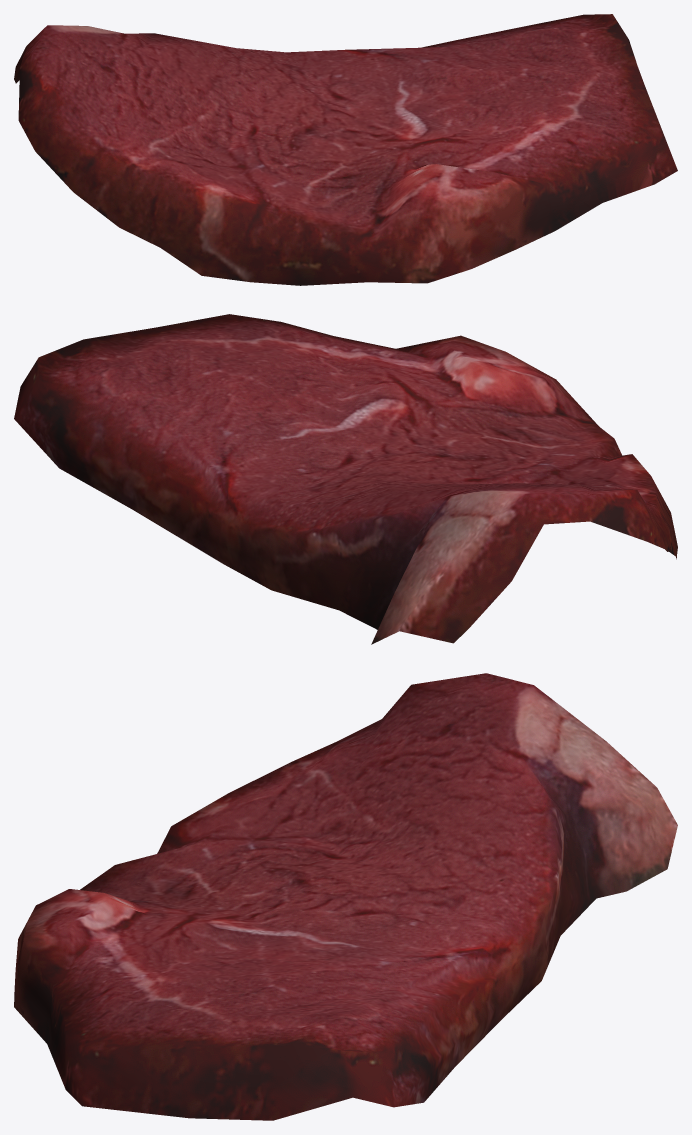
File: Beef_low.fbx
3 views of the same model, one above another, from view 1: azimuth 30°, elevation 25°; view 2: azimuth 150°, elevation 25°; view 3: azimuth 270°, elevation 25° (orthographic). The views are drawn at different scales.
Visible parts, largest first — view 1: Skin_ZSphere5; view 2: Skin_ZSphere5; view 3: Skin_ZSphere5.
Part boxes in pixels (x1,y1,x2,y2): Skin_ZSphere5: [14, 14, 677, 285]; Skin_ZSphere5: [14, 314, 677, 644]; Skin_ZSphere5: [14, 673, 677, 1120].
Size of the model in its own units: 25.6 by 6.69 by 20.69.
1 material, 1 textured.
